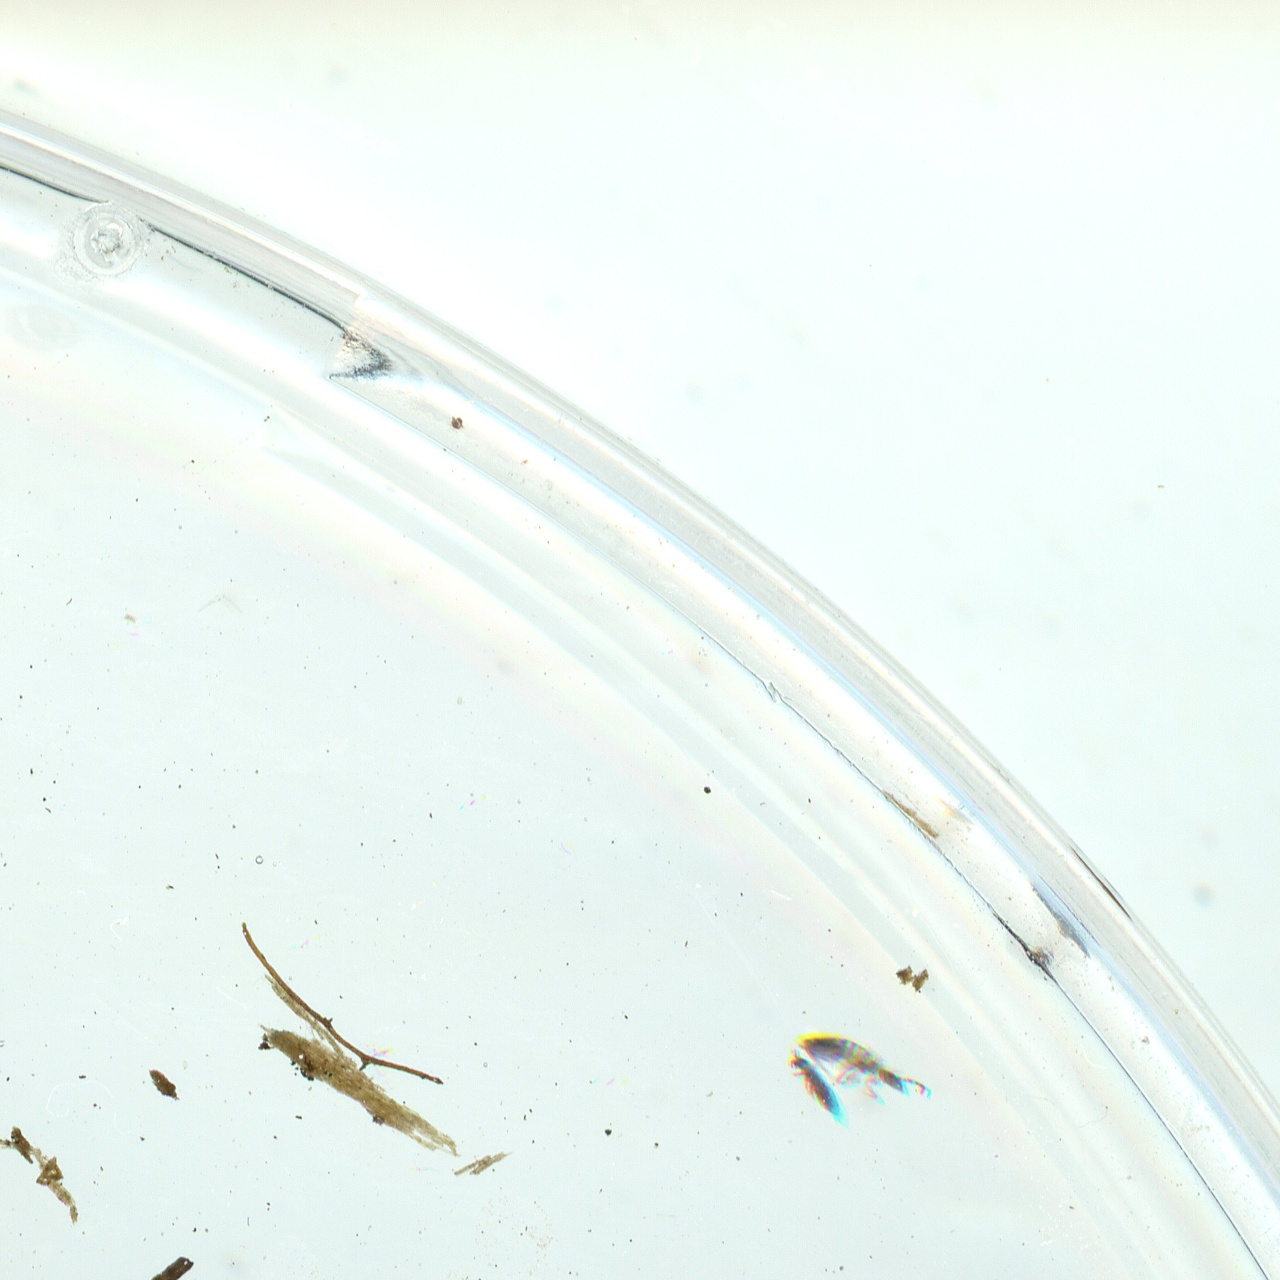arthropod: (783, 1014, 947, 1124), (774, 1039, 858, 1137)
